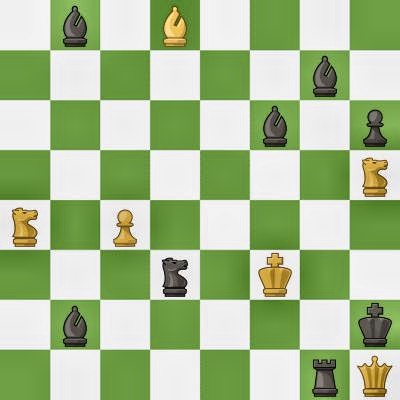black-bishop: (50, 0, 100, 50), (300, 50, 350, 100), (250, 100, 300, 150), (50, 300, 100, 350)
black-king: (350, 300, 400, 350)
black-knight: (150, 250, 200, 300)
black-pawn: (350, 100, 400, 150)
black-rook: (300, 350, 350, 400)
white-bishop: (150, 0, 200, 50)
white-king: (250, 250, 300, 300)
white-knight: (350, 150, 400, 200), (0, 200, 50, 250)
white-pawn: (100, 200, 150, 250)
white-queen: (350, 350, 400, 400)
